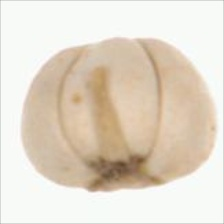L5: (56, 37, 166, 160), (74, 153, 173, 194)
L6: (19, 37, 218, 194)
